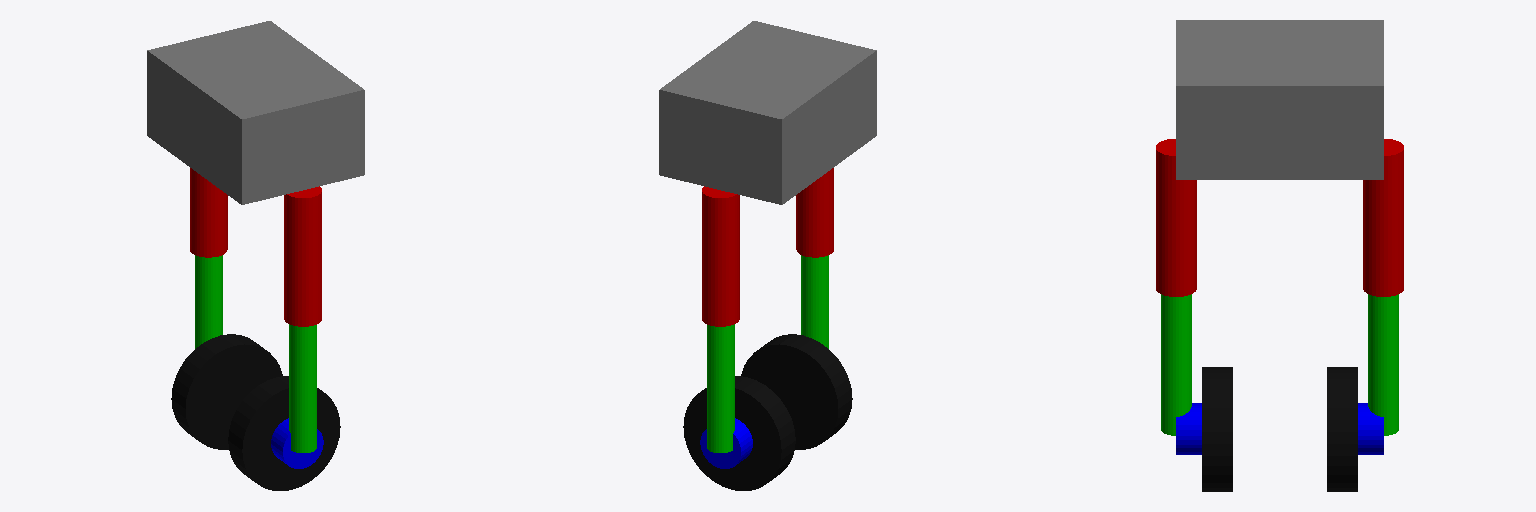
The robot description file, URDF, robot "bipede":
<?xml version="1.0"?>
<robot name="bipede">

  <link name="base_footprint"/>
  <joint name="base_joint" type="fixed">
    <parent link="base_footprint"/>
    <child link="base_link"/>
  </joint>
  
  <link name="base_link">
    <visual>
      <origin xyz="0 0 0" rpy="0 0 0"/>
      <geometry><box size="0.15 0.20 0.10"/></geometry>
      <material name="grigio"><color rgba="0.5 0.5 0.5 1.0"/></material>
    </visual>
    <collision>
      <origin xyz="0 0 0" rpy="0 0 0"/>
      <geometry><box size="0.15 0.20 0.10"/></geometry>
    </collision>
    <inertial>
      <origin xyz="0 0 0" rpy="0 0 0"/>
      <mass value="2.0"/>
      <inertia ixx="0.0083" ixy="0" ixz="0" iyy="0.0054" iyz="0" izz="0.0104"/>
    </inertial>
  </link>


  <joint name="left_hip_joint" type="revolute">
    <parent link="base_link"/>
    <child link="left_thigh_link"/>
    <origin xyz="0 0.10 -0.05" rpy="0 0 0"/>
    <axis xyz="0 1 0"/>
    <limit lower="-1.57" upper="1.57" effort="20" velocity="5.0"/>
  </joint>

  <link name="left_thigh_link">
    <visual>
      <origin xyz="0 0 -0.075" rpy="0 0 0"/>
      <geometry><cylinder radius="0.02" length="0.15"/></geometry>
      <material name="rosso"><color rgba="0.8 0 0 1.0"/></material>
    </visual>
    <collision>
      <origin xyz="0 0 -0.075" rpy="0 0 0"/>
      <geometry><cylinder radius="0.02" length="0.15"/></geometry>
    </collision>
    <inertial>
      <origin xyz="0 0 -0.075" rpy="0 0 0"/>
      <mass value="0.5"/>
      <inertia ixx="0.0010" ixy="0" ixz="0" iyy="0.0010" iyz="0" izz="0.0001"/>
    </inertial>
  </link>

  <joint name="left_knee_joint" type="revolute">
    <parent link="left_thigh_link"/>
    <child link="left_calf_link"/>
    <origin xyz="0 0 -0.15" rpy="0 0 0"/>
    <axis xyz="0 1 0"/>
    <limit lower="-2.5" upper="0.0" effort="20" velocity="5.0"/>
  </joint>

  <link name="left_calf_link">
    <visual>
      <origin xyz="0 0 -0.075" rpy="0 0 0"/>
      <geometry><cylinder radius="0.015" length="0.15"/></geometry>
      <material name="verde"><color rgba="0 0.8 0 1.0"/></material>
    </visual>
    <collision>
      <origin xyz="0 0 -0.075" rpy="0 0 0"/>
      <geometry><cylinder radius="0.015" length="0.15"/></geometry>
    </collision>
    <inertial>
      <origin xyz="0 0 -0.075" rpy="0 0 0"/>
      <mass value="0.3"/>
      <inertia ixx="0.0006" ixy="0" ixz="0" iyy="0.0006" iyz="0" izz="0.00003"/>
    </inertial>
  </link>
 
  <joint name="left_stator_joint" type="fixed">
    <parent link="left_calf_link"/>
    <child link="left_stator_link"/>
    <origin xyz="0 -0.02 -0.15" rpy="0 0 0"/>
  </joint>

  <link name="left_stator_link">
    <visual>
      <origin xyz="0 0 0" rpy="1.5708 0 0"/>
      <geometry><cylinder radius="0.025" length="0.04"/></geometry>
      <material name="blu"><color rgba="0 0 1.0 1.0"/></material>
    </visual>
    <collision>
      <origin xyz="0 0 0" rpy="1.5708 0 0"/>
      <geometry><cylinder radius="0.025" length="0.04"/></geometry>
    </collision>
    <inertial>
      <origin xyz="0 0 0" rpy="1.5708 0 0"/>
      <mass value="0.1"/>
      <inertia ixx="0.00003" ixy="0" ixz="0" iyy="0.00003" iyz="0" izz="0.00003"/>
    </inertial>
  </link>

  <joint name="left_wheel_joint" type="continuous">
    <parent link="left_stator_link"/>
    <child link="left_wheel_link"/>
    <origin xyz="0 -0.02 0" rpy="0 0 0"/> 
    <axis xyz="0 1 0"/>
  </joint>

  <link name="left_wheel_link">
    <visual>
      <origin xyz="0 0 0" rpy="1.5708 0 0"/>
      <geometry><cylinder radius="0.06" length="0.03"/></geometry>
      <material name="nero"><color rgba="0.1 0.1 0.1 1.0"/></material>
    </visual>
    <collision>
      <origin xyz="0 0 0" rpy="1.5708 0 0"/>
      <geometry><cylinder radius="0.06" length="0.03"/></geometry>
    </collision>
    <inertial>
      <origin xyz="0 0 0" rpy="1.5708 0 0"/>
      <mass value="0.5"/>
      <inertia ixx="0.0005" ixy="0" ixz="0" iyy="0.0005" iyz="0" izz="0.0009"/>
    </inertial>
  </link>


  <joint name="right_hip_joint" type="revolute">
    <parent link="base_link"/>
    <child link="right_thigh_link"/>
    <origin xyz="0 -0.10 -0.05" rpy="0 0 0"/>
    <axis xyz="0 1 0"/>
    <limit lower="-1.57" upper="1.57" effort="20" velocity="5.0"/>
  </joint>

  <link name="right_thigh_link">
    <visual>
      <origin xyz="0 0 -0.075" rpy="0 0 0"/>
      <geometry><cylinder radius="0.02" length="0.15"/></geometry>
      <material name="rosso"/>
    </visual>
    <collision>
      <origin xyz="0 0 -0.075" rpy="0 0 0"/>
      <geometry><cylinder radius="0.02" length="0.15"/></geometry>
    </collision>
    <inertial>
      <origin xyz="0 0 -0.075" rpy="0 0 0"/>
      <mass value="0.5"/>
      <inertia ixx="0.0010" ixy="0" ixz="0" iyy="0.0010" iyz="0" izz="0.0001"/>
    </inertial>
  </link>

  <joint name="right_knee_joint" type="revolute">
    <parent link="right_thigh_link"/>
    <child link="right_calf_link"/>
    <origin xyz="0 0 -0.15" rpy="0 0 0"/>
    <axis xyz="0 1 0"/>
    <limit lower="-2.5" upper="0.0" effort="20" velocity="5.0"/>
  </joint>

  <link name="right_calf_link">
    <visual>
      <origin xyz="0 0 -0.075" rpy="0 0 0"/>
      <geometry><cylinder radius="0.015" length="0.15"/></geometry>
      <material name="verde"/>
    </visual>
    <collision>
      <origin xyz="0 0 -0.075" rpy="0 0 0"/>
      <geometry><cylinder radius="0.015" length="0.15"/></geometry>
    </collision>
    <inertial>
      <origin xyz="0 0 -0.075" rpy="0 0 0"/>
      <mass value="0.3"/>
      <inertia ixx="0.0006" ixy="0" ixz="0" iyy="0.0006" iyz="0" izz="0.00003"/>
    </inertial>
  </link>

  <joint name="right_stator_joint" type="fixed">
    <parent link="right_calf_link"/>
    <child link="right_stator_link"/>
    <origin xyz="0 0.02 -0.15" rpy="0 0 0"/>
  </joint>

  <link name="right_stator_link">
    <visual>
      <origin xyz="0 0 0" rpy="1.5708 0 0"/>
      <geometry><cylinder radius="0.025" length="0.04"/></geometry>
      <material name="blu"/>
    </visual>
    <collision>
      <origin xyz="0 0 0" rpy="1.5708 0 0"/>
      <geometry><cylinder radius="0.025" length="0.04"/></geometry>
    </collision>
    <inertial>
      <origin xyz="0 0 0" rpy="1.5708 0 0"/>
      <mass value="0.1"/>
      <inertia ixx="0.00003" ixy="0" ixz="0" iyy="0.00003" iyz="0" izz="0.00003"/>
    </inertial>
  </link>

  <joint name="right_wheel_joint" type="continuous">
    <parent link="right_stator_link"/>
    <child link="right_wheel_link"/>
    <origin xyz="0 0.02 0" rpy="0 0 0"/> 
    <axis xyz="0 1 0"/>
  </joint>

  <link name="right_wheel_link">
    <visual>
      <origin xyz="0 0 0" rpy="1.5708 0 0"/>
      <geometry><cylinder radius="0.06" length="0.03"/></geometry>
      <material name="nero"/>
    </visual>
    <collision>
      <origin xyz="0 0 0" rpy="1.5708 0 0"/>
      <geometry><cylinder radius="0.06" length="0.03"/></geometry>
    </collision>
    <inertial>
      <origin xyz="0 0 0" rpy="1.5708 0 0"/>
      <mass value="0.5"/>
      <inertia ixx="0.0005" ixy="0" ixz="0" iyy="0.0005" iyz="0" izz="0.0009"/>
    </inertial>
  </link>


  <ros2_control name="GazeboSimSystem" type="system">
    <hardware>
      <plugin>ign_ros2_control/IgnitionSystem</plugin>
    </hardware>

    <joint name="left_hip_joint">
      <command_interface name="position"/>
      <state_interface name="position"/>
      <state_interface name="velocity"/>
    </joint>
    <joint name="right_hip_joint">
      <command_interface name="position"/>
      <state_interface name="position"/>
      <state_interface name="velocity"/>
    </joint>

    <joint name="left_knee_joint">
      <command_interface name="position"/>
      <state_interface name="position"/>
      <state_interface name="velocity"/>
    </joint>
    <joint name="right_knee_joint">
      <command_interface name="position"/>
      <state_interface name="position"/>
      <state_interface name="velocity"/>
    </joint>

    <joint name="left_wheel_joint">
      <command_interface name="velocity"/>
      <state_interface name="position"/>
      <state_interface name="velocity"/>
    </joint>
    <joint name="right_wheel_joint">
      <command_interface name="velocity"/>
      <state_interface name="position"/>
      <state_interface name="velocity"/>
    </joint>
  </ros2_control>

  <gazebo reference="base_link">
    <sensor name="imu_sensor" type="imu">
      <always_on>1</always_on>
      <update_rate>100</update_rate>
      <visualize>true</visualize>
      <topic>imu</topic>
    </sensor>
  </gazebo>

  <gazebo>
    <plugin filename="libignition-gazebo-imu-system.so" name="ignition::gazebo::systems::Imu"/>
  </gazebo>
  
  <gazebo reference="left_wheel_link">
    <mu1>1.0</mu1>
    <mu2>1.0</mu2>
    <kp>1000000.0</kp>
    <kd>1.0</kd>
  </gazebo>

  <gazebo reference="right_wheel_link">
    <mu1>1.0</mu1>
    <mu2>1.0</mu2>
    <kp>1000000.0</kp>
    <kd>1.0</kd>
  </gazebo>

  <gazebo>
    <plugin filename="libign_ros2_control-system.so" name="ign_ros2_control::IgnitionROS2ControlPlugin">
      <parameters>/home/aldo/Scrivania/fsr/controllers.yaml</parameters>
    </plugin>
  </gazebo>

</robot>

--- Facts derived from the render (not from the file) ---
Views: 3 orthographic renders of the robot side by side, from view 1: azimuth 30°, elevation 25°; view 2: azimuth 150°, elevation 25°; view 3: azimuth 270°, elevation 25°.
Model bipede with 10 links and 9 joints (4 revolute, 2 continuous, 3 fixed), rooted at base_footprint, posed all joints at 0.
Visible links, largest first — view 1: base_link, left_wheel_link, right_wheel_link, right_thigh_link, right_calf_link, left_thigh_link, left_calf_link, right_stator_link; view 2: base_link, right_wheel_link, left_wheel_link, left_thigh_link, left_calf_link, right_thigh_link, right_calf_link, left_stator_link; view 3: base_link, left_thigh_link, right_thigh_link, left_calf_link, right_calf_link, left_wheel_link, right_wheel_link, left_stator_link, right_stator_link.
Link boxes in pixels (bbox=[...]): base_link: bbox=[147, 21, 364, 204]; left_wheel_link: bbox=[171, 334, 282, 449]; right_wheel_link: bbox=[228, 376, 340, 490]; right_thigh_link: bbox=[284, 186, 321, 326]; right_calf_link: bbox=[289, 324, 316, 452]; left_thigh_link: bbox=[190, 168, 227, 257]; left_calf_link: bbox=[195, 255, 222, 348]; right_stator_link: bbox=[271, 418, 323, 468]; base_link: bbox=[659, 21, 876, 204]; right_wheel_link: bbox=[741, 334, 852, 449]; left_wheel_link: bbox=[683, 376, 795, 490]; left_thigh_link: bbox=[702, 186, 739, 326]; left_calf_link: bbox=[707, 324, 734, 452]; right_thigh_link: bbox=[796, 168, 833, 257]; right_calf_link: bbox=[801, 255, 828, 348]; left_stator_link: bbox=[700, 418, 752, 468]; base_link: bbox=[1176, 20, 1383, 179]; left_thigh_link: bbox=[1363, 139, 1403, 296]; right_thigh_link: bbox=[1156, 139, 1196, 296]; left_calf_link: bbox=[1368, 294, 1398, 435]; right_calf_link: bbox=[1161, 294, 1191, 435]; left_wheel_link: bbox=[1327, 367, 1357, 491]; right_wheel_link: bbox=[1202, 367, 1232, 491]; left_stator_link: bbox=[1358, 403, 1383, 454]; right_stator_link: bbox=[1176, 403, 1201, 454].
Size in the robot's own frame: 0.15 by 0.24 by 0.46 metres.
Geometry: primitives only (box / cylinder / sphere), no mesh files.
